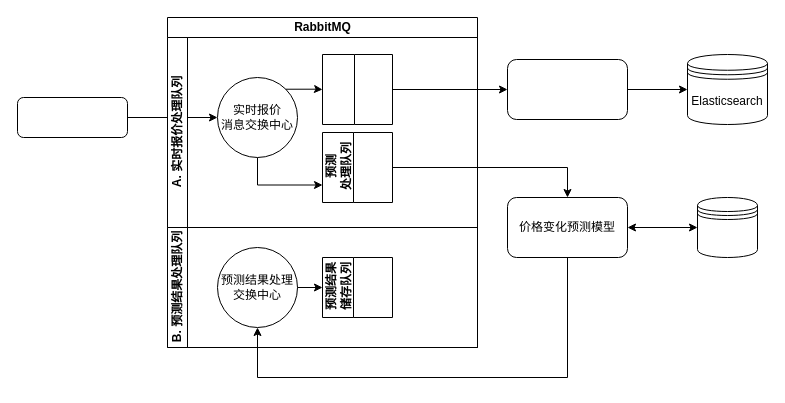
Some shapes in this 785 by 403 pixel diagram are drawn without their labels. The shapes that lost their labels are listed below. From the top down, each one's centre as x and y in pixels, then its label:
the point at 357,89: 报价 储存队列
the point at 567,89: LogStash
the point at 72,117: 实时报价数据源
the point at 727,227: Redis
